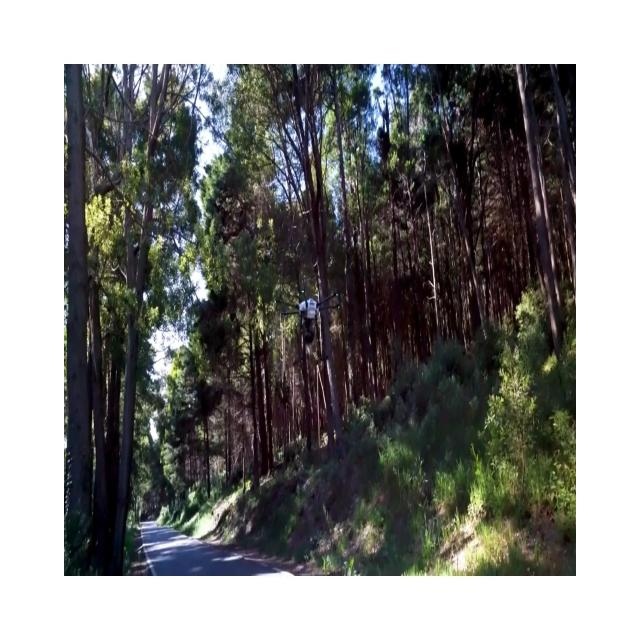drone: (280, 288, 340, 344)
